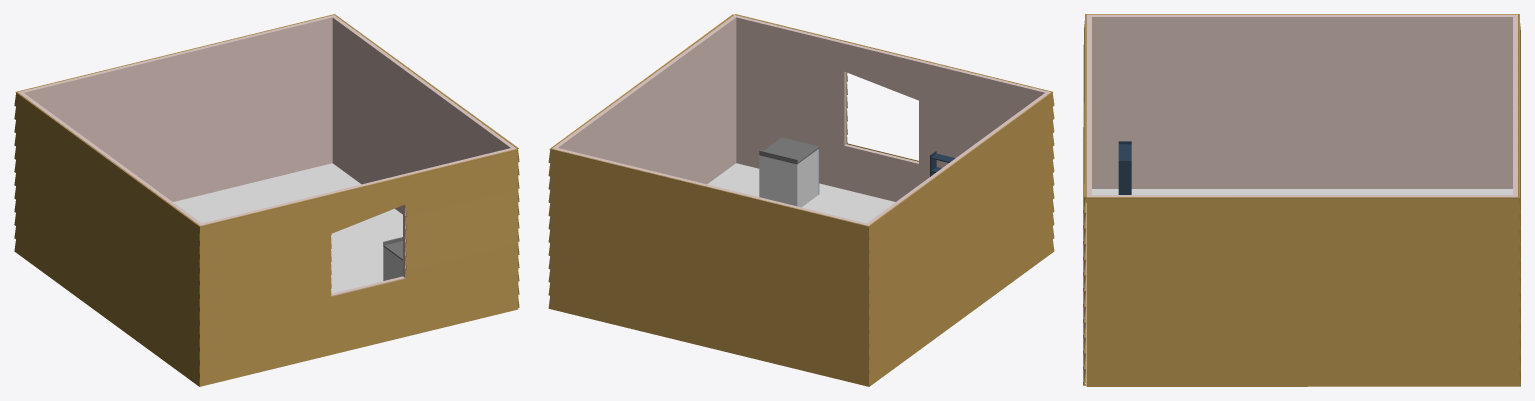
Rendered from Room1.fbx.
3 renders of one model, left to right at view 1: azimuth 30°, elevation 25°; view 2: azimuth 150°, elevation 25°; view 3: azimuth 270°, elevation 25°, orthographic. The views are drawn at different scales.
Visible parts, largest first — view 1: Wall_cover, Room, Baseboard, Cabinet1; view 2: Wall_cover, Room, Baseboard, Cabinet1, Countertop1; view 3: Wall_cover, Room, Baseboard, Shelves1.
Part boxes in pixels (x1,y1,x2,y2): Wall_cover: [14, 14, 519, 386]; Room: [17, 15, 516, 296]; Baseboard: [173, 163, 402, 293]; Cabinet1: [383, 246, 402, 280]; Wall_cover: [548, 14, 1054, 386]; Room: [552, 15, 1050, 225]; Baseboard: [707, 163, 895, 223]; Cabinet1: [759, 149, 818, 207]; Countertop1: [759, 137, 819, 164]; Wall_cover: [1083, 14, 1520, 386]; Room: [1086, 14, 1517, 197]; Baseboard: [1092, 189, 1512, 194]; Shelves1: [1118, 141, 1131, 194].
Size of the model in its own units: 507 by 241 by 507.
